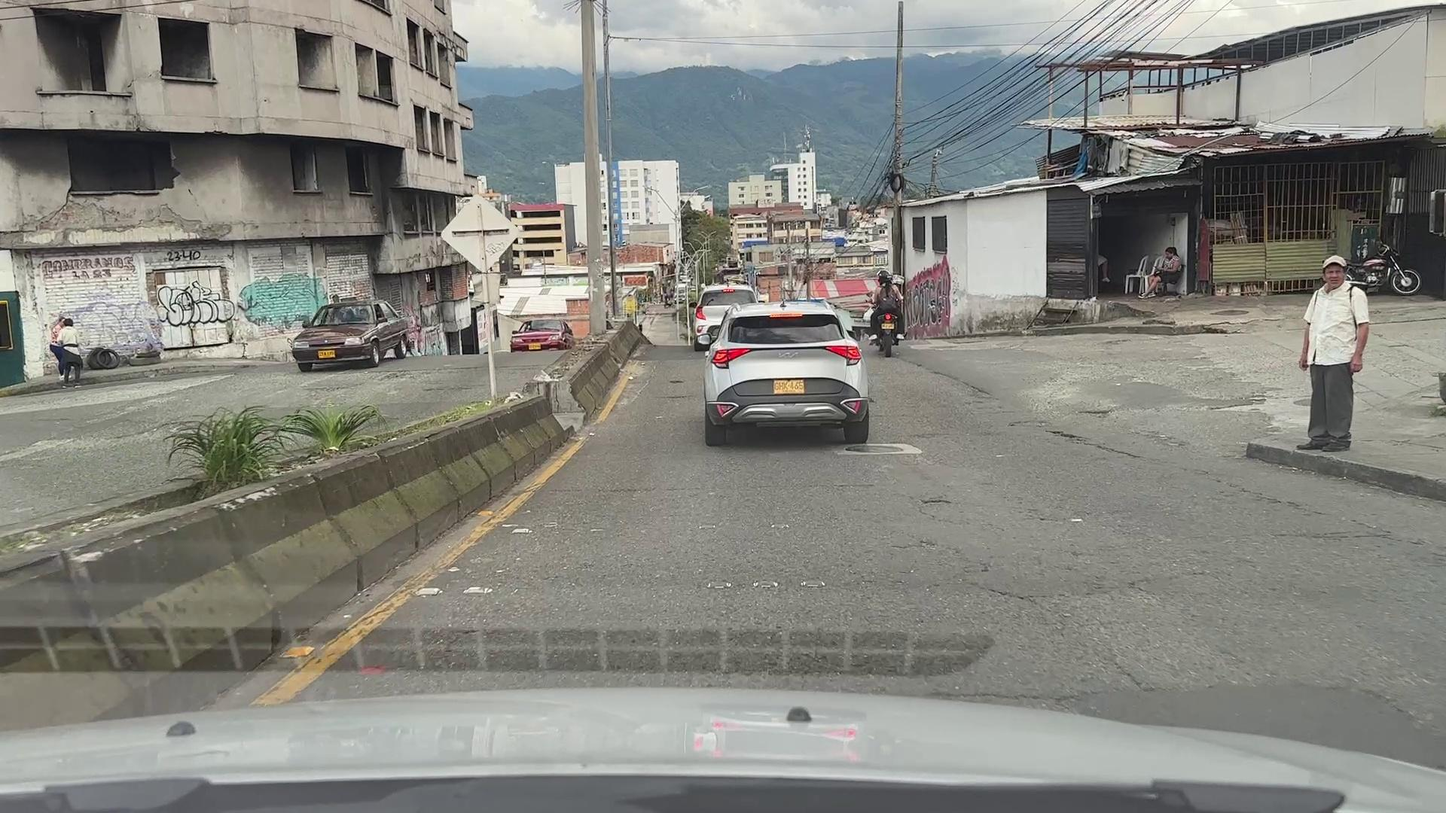bache: (1081, 410, 1112, 415), (925, 501, 949, 504), (670, 381, 683, 383)
grieta: (1045, 431, 1141, 458)
registro: (846, 445, 901, 453)
